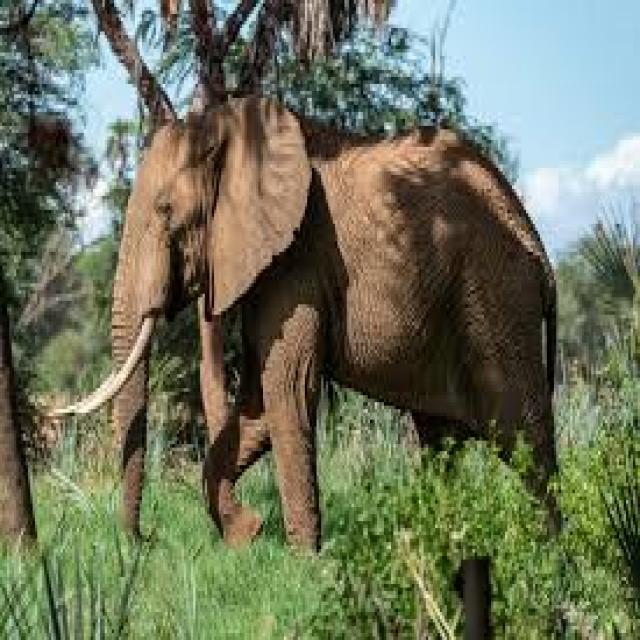Elephant: (30, 91, 561, 556)
